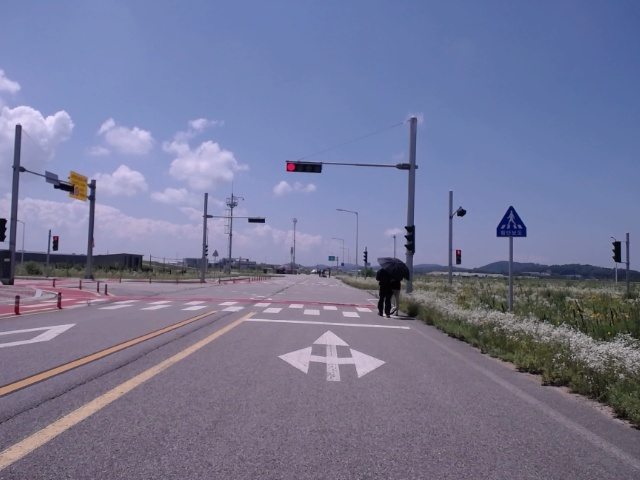red_4: (286, 163, 322, 174)
